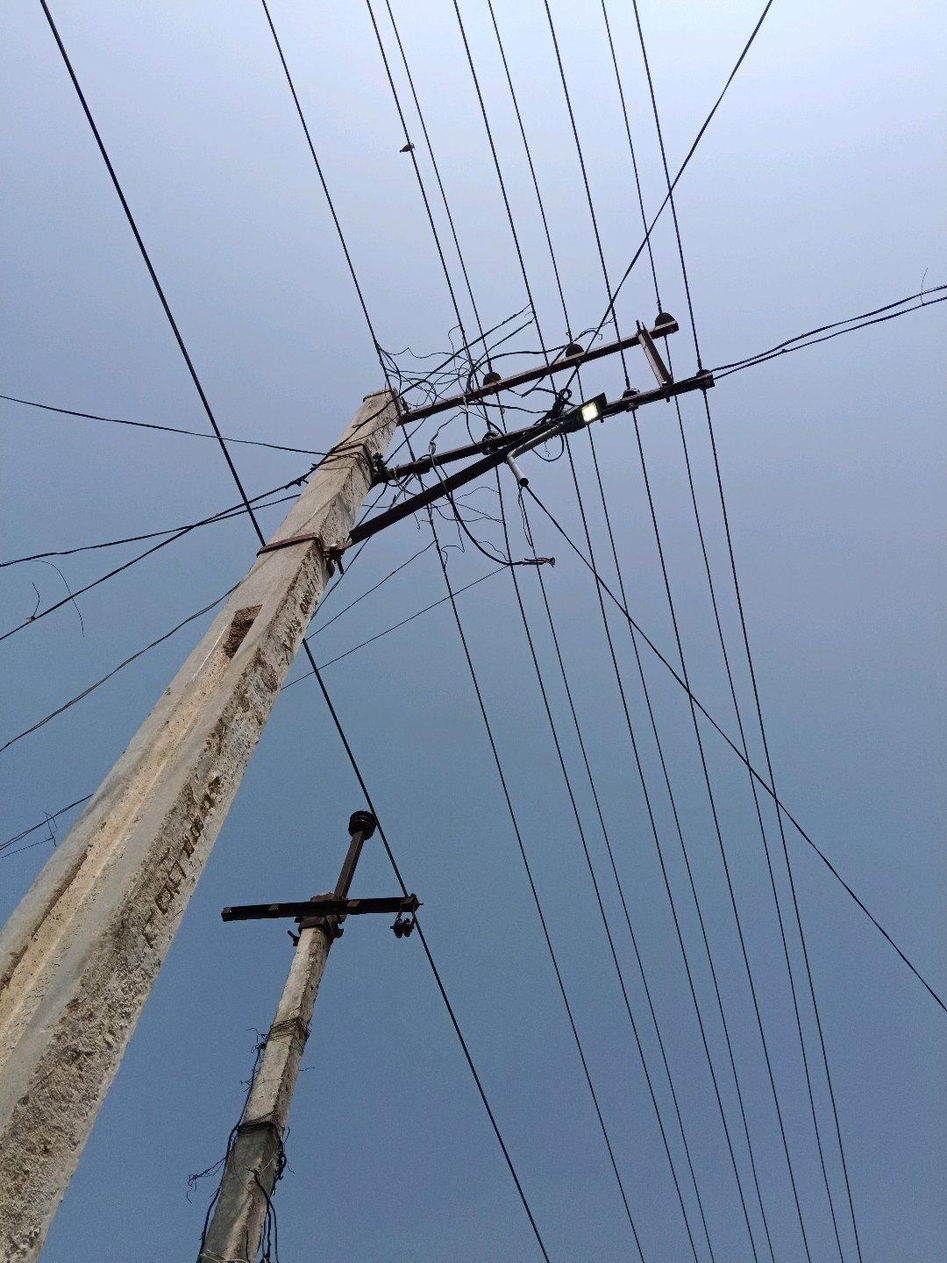{"0" "insulator", "1" "pole", "2" "crossarm", "3" "conductor", "4" "street_: (0, 316, 715, 1262), (194, 810, 417, 1262), (0, 686, 95, 756), (94, 630, 176, 688), (182, 618, 195, 626), (430, 498, 443, 505), (503, 458, 510, 466), (198, 611, 205, 617), (645, 246, 650, 254), (560, 434, 569, 437), (28, 829, 35, 832), (62, 810, 69, 813), (0, 849, 4, 852), (366, 592, 369, 596), (16, 837, 18, 840), (363, 597, 365, 599)
